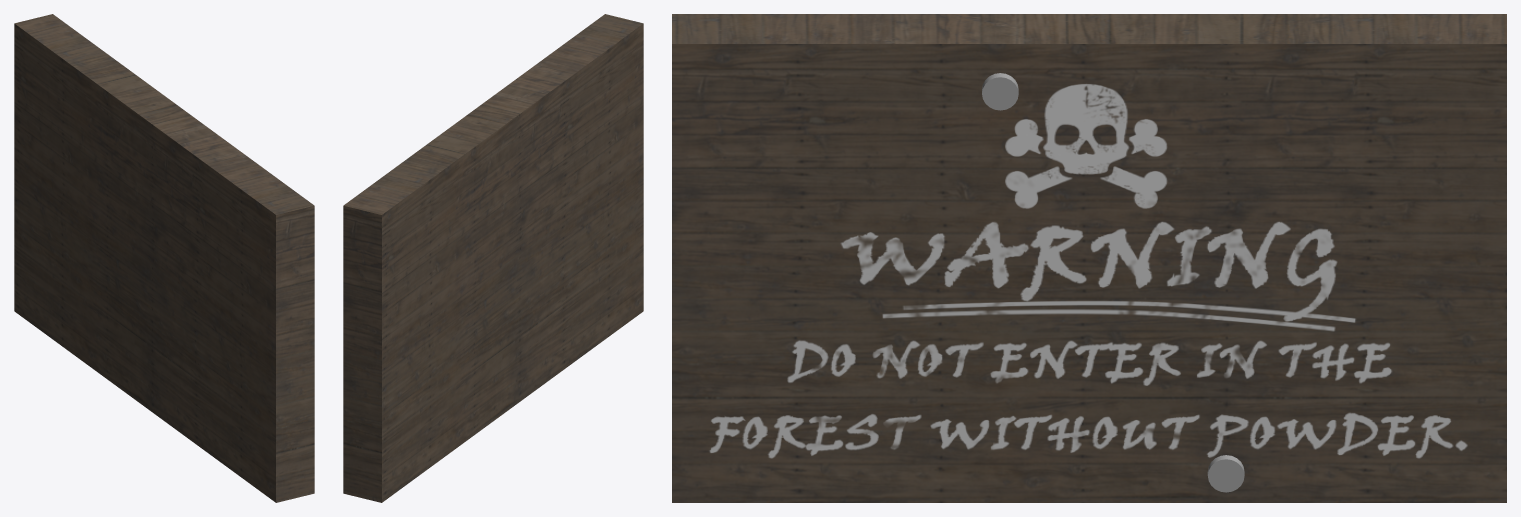
File: Watermill_BucketPanel.fbx
3 renders of one model, left to right at view 1: azimuth 30°, elevation 25°; view 2: azimuth 150°, elevation 25°; view 3: azimuth 270°, elevation 25°, orthographic. The views are drawn at different scales.
Parts seen in each view (by area): view 1: PanelExit; view 2: PanelExit; view 3: PanelExit, ScrewBotton, ScrewTop.
Part boxes in pixels (x1,y1,x2,y2): PanelExit: (14,14,314,502); PanelExit: (343,14,643,502); PanelExit: (672,14,1506,502); ScrewBotton: (1207,455,1244,492); ScrewTop: (982,73,1018,110).
Size of the model in its own units: 31.99 by 200 by 330.
Materials: 2 (1 with a texture image).
